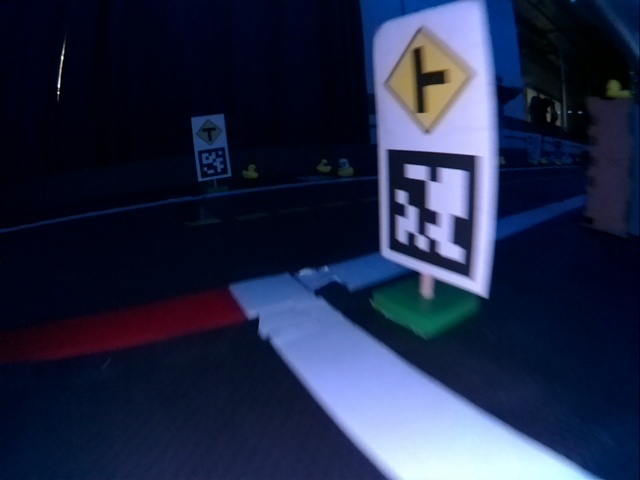Duckie: (338, 159, 351, 177), (316, 159, 331, 173), (246, 167, 258, 178)
Intersection sign: (380, 21, 475, 139), (198, 120, 225, 146)
QR code: (388, 150, 480, 281), (195, 151, 230, 180)
